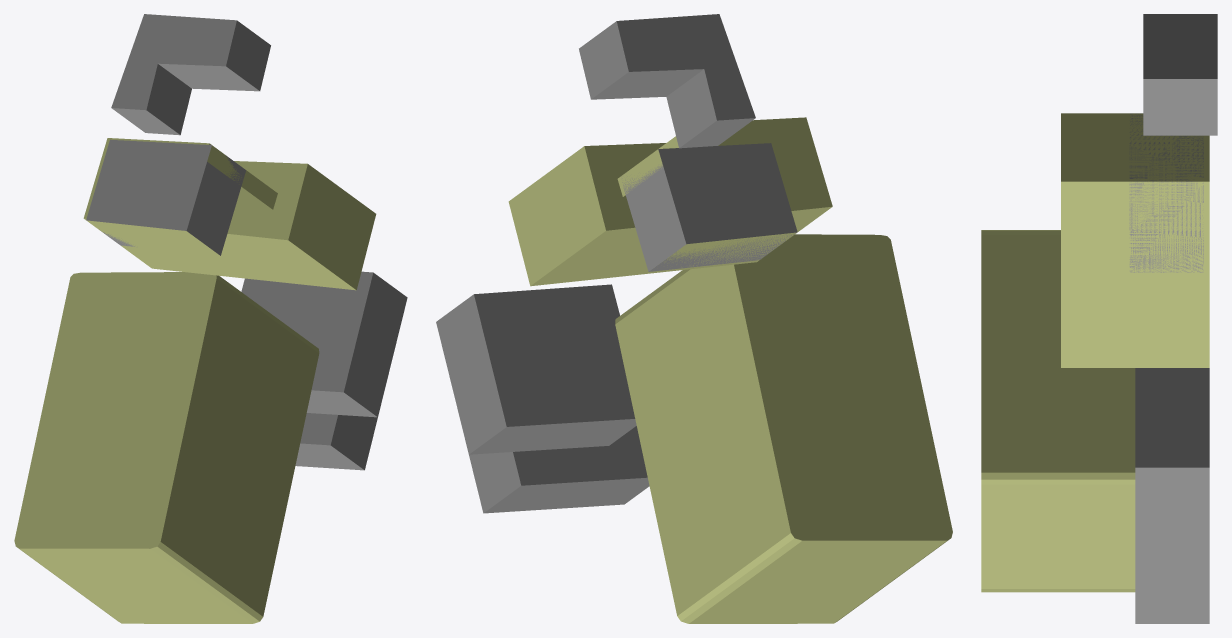
3 views of the same model, side by side, from view 1: azimuth 30°, elevation 25°; view 2: azimuth 150°, elevation 25°; view 3: azimuth 270°, elevation 25° (orthographic). The views are drawn at different scales.
Parts seen in each view (by area): view 1: 0_1_2_0_1_3_0_2_3_3; view 2: 0_1_2_0_1_3_0_2_3_3; view 3: 0_1_2_0_1_3_0_2_3_3.
Part boxes in pixels (x1,y1,x2,y2): 0_1_2_0_1_3_0_2_3_3: (14, 14, 407, 623); 0_1_2_0_1_3_0_2_3_3: (436, 14, 952, 623); 0_1_2_0_1_3_0_2_3_3: (981, 14, 1217, 623).
Bounding box in the file's own units: 18.29 × 25.64 × 9.55.
